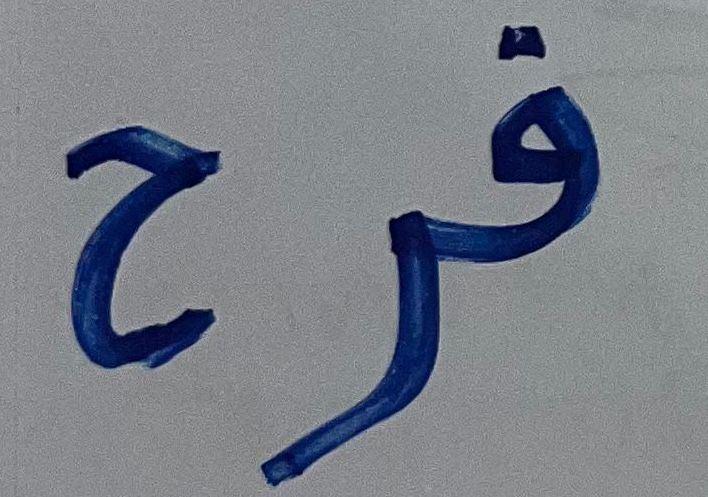hah: (32, 106, 249, 383)
qaf: (464, 16, 613, 286)
reh: (257, 196, 456, 490)
